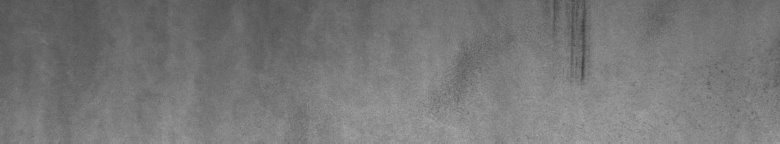ka: (551, 4, 592, 81)
